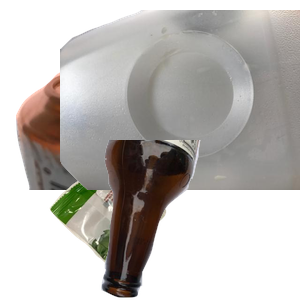glass: (99, 140, 300, 300)
metal: (13, 61, 240, 241)
plastic: (60, 10, 300, 190)
trash: (47, 146, 220, 300)
